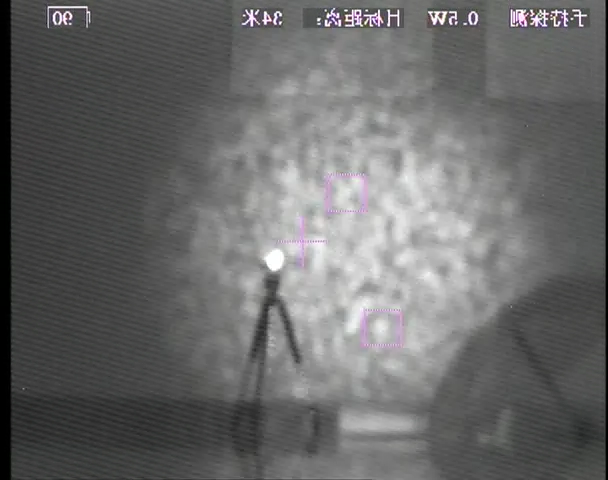my: (262, 248, 285, 273)
